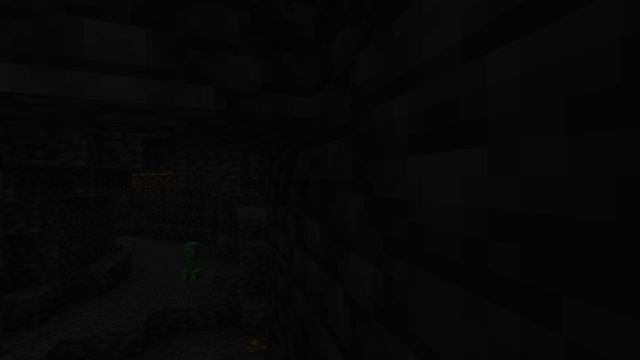creepers: (184, 239, 199, 279)
